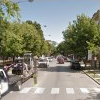crosswalk: (9, 87, 99, 94)
